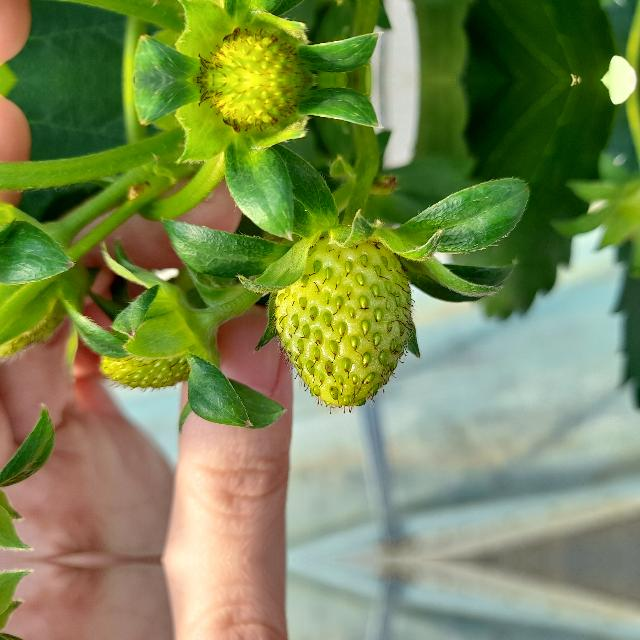Health_25: (270, 236, 416, 414)
